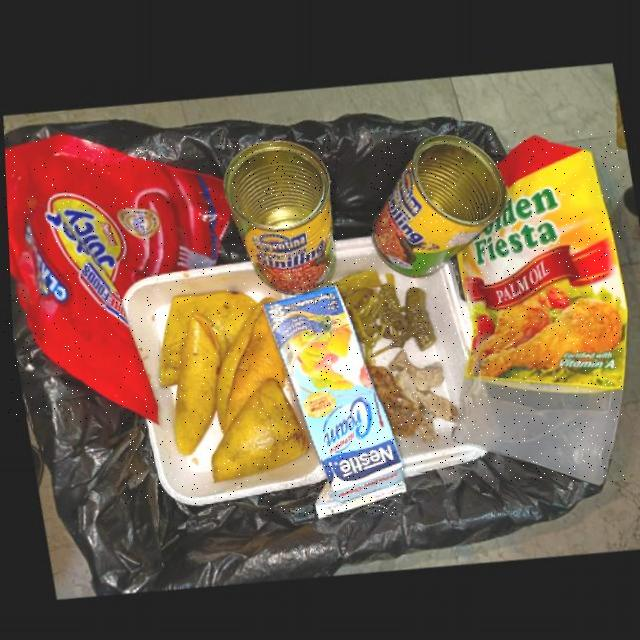biowaste: (208, 376, 306, 480), (331, 266, 434, 363), (213, 294, 283, 432), (157, 290, 254, 385), (171, 312, 219, 454), (386, 347, 454, 440), (365, 363, 419, 435)
metal: (371, 133, 505, 275), (221, 139, 334, 293)
paper: (261, 283, 402, 516)
styrofoam: (120, 259, 321, 505), (332, 233, 466, 402), (392, 417, 481, 473)
wrapper: (4, 134, 230, 423), (449, 132, 625, 482)
